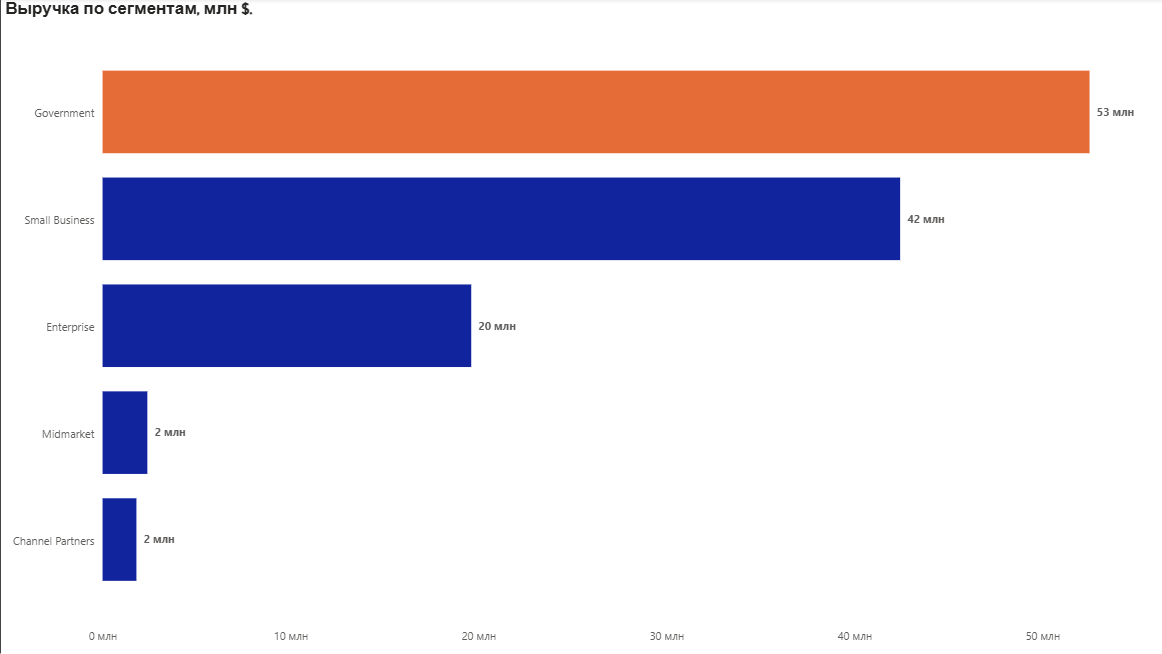

What the dashboard file says about the page in this screenshot:
{"tool":"powerbi","page":{"name":"КЕЙС 1. «Выручка по сегментам рынка» (простая столбчатая)","canvas":[1280,720],"ordinal":0},"visuals":[{"type":"barChart","title":"Выручка по сегментам, млн $.","fields":{"Category":["КЕЙС 1.Segment"],"Y":["МЕРЫ.TOTAL sales"]},"box":[0,0,1280.3,720.4],"z":0}]}

Visuals, with their boxes in screenshot pixels (x1, y1, x2, y2), scaled from the page's 1280x720 canvas onto the 1162x654 screenshot:
"Выручка по сегментам, млн $." barChart: box(0, 0, 1161, 653)
